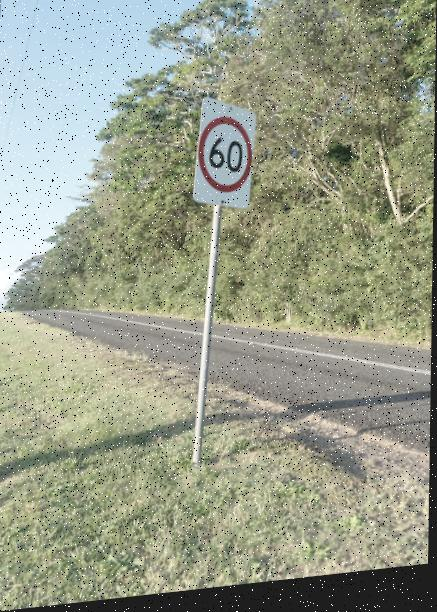Speed Limit -60-: (197, 116, 255, 200)
